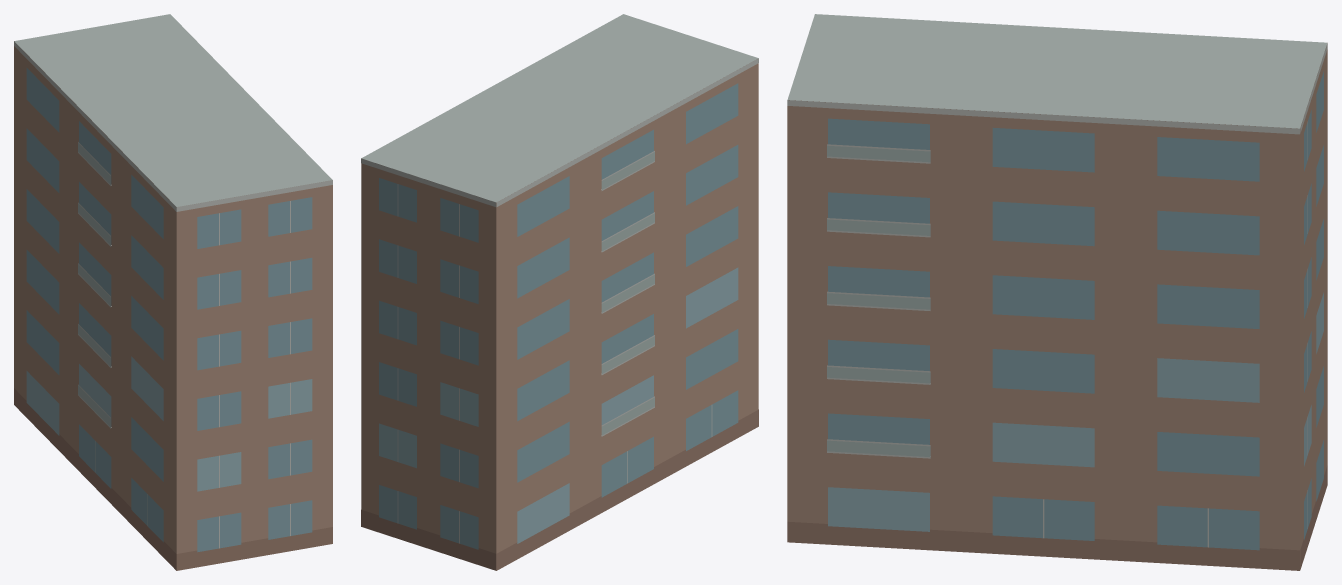
The model's file is survey-upis-32978209.glb.
3 renders of one model, left to right at view 1: azimuth 30°, elevation 25°; view 2: azimuth 150°, elevation 25°; view 3: azimuth 270°, elevation 25°, orthographic. The views are drawn at different scales.
Visible parts, largest first — view 1: survey-upis-32978209.tmp; view 2: survey-upis-32978209.tmp; view 3: survey-upis-32978209.tmp.
Boxes of the visible parts, x1=… form: survey-upis-32978209.tmp: x1=14, y1=14, x2=332, y2=570; survey-upis-32978209.tmp: x1=361, y1=14, x2=758, y2=570; survey-upis-32978209.tmp: x1=787, y1=14, x2=1327, y2=570.
Bounding box in the file's own units: 10.23 × 18.4 × 20.37.
